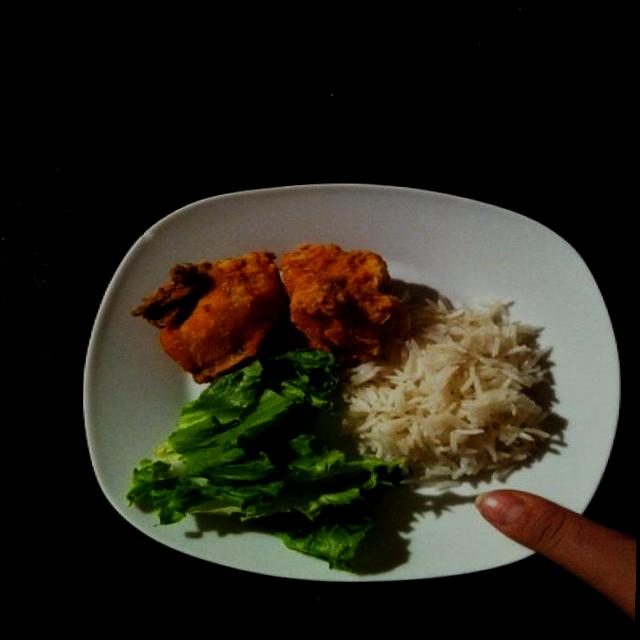Finger: (468, 487, 618, 579)
Lettuce: (126, 373, 382, 572)
Rice: (362, 316, 572, 477)
